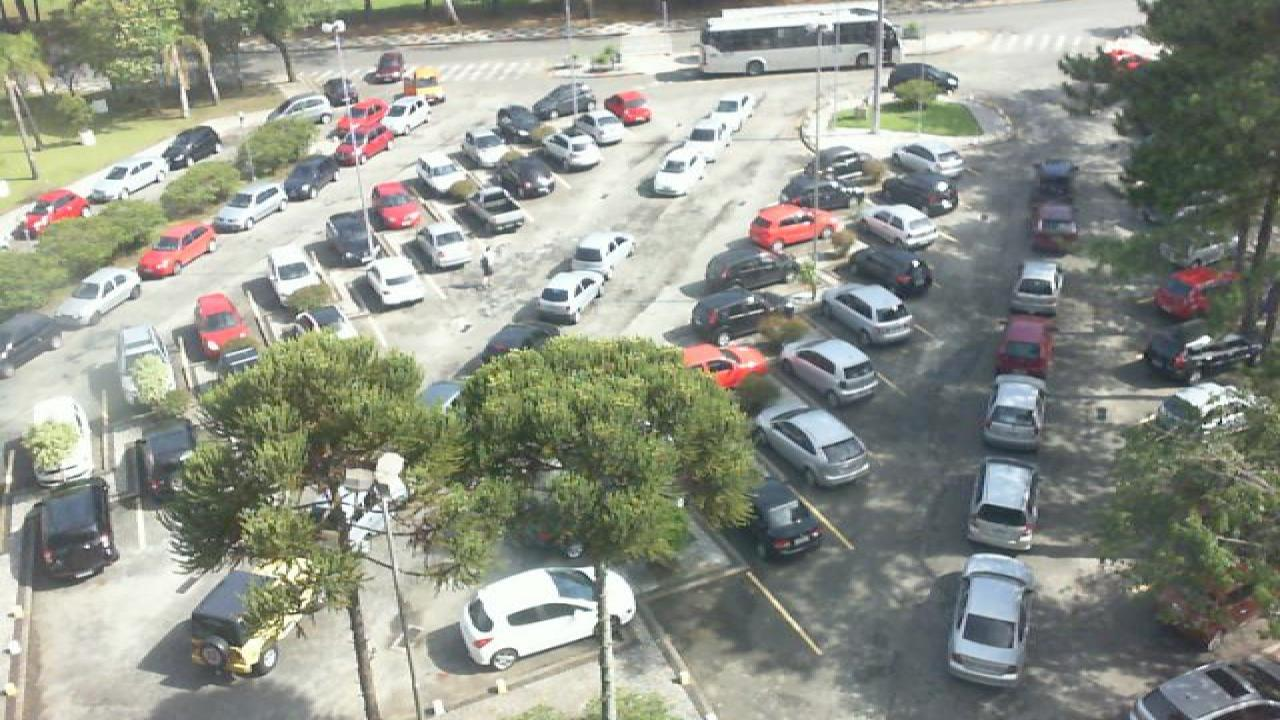Car: (456, 565, 640, 675), (938, 552, 1040, 688), (746, 400, 874, 488), (20, 481, 122, 588), (1136, 320, 1264, 384), (960, 456, 1040, 554), (734, 478, 824, 563), (20, 395, 94, 492), (782, 339, 884, 407), (818, 284, 918, 348), (978, 372, 1046, 454), (58, 264, 144, 328), (672, 340, 770, 396), (1148, 264, 1238, 324), (842, 244, 934, 302), (686, 290, 776, 349), (700, 245, 798, 295), (136, 218, 218, 277), (746, 202, 840, 251), (848, 204, 942, 252), (192, 291, 252, 361), (86, 155, 170, 205), (212, 179, 288, 233), (14, 186, 88, 240), (876, 173, 962, 218), (534, 270, 604, 325), (320, 208, 384, 267), (264, 245, 328, 303), (364, 253, 426, 312), (996, 313, 1052, 378), (458, 186, 528, 234), (412, 151, 482, 199), (790, 173, 868, 216), (118, 322, 176, 379), (568, 229, 638, 276), (1010, 259, 1068, 315), (370, 181, 428, 233), (494, 156, 558, 202), (538, 126, 602, 172), (1030, 198, 1082, 254), (892, 142, 966, 181), (160, 125, 224, 170), (640, 154, 700, 199), (884, 61, 960, 96), (282, 156, 342, 200), (796, 144, 866, 181), (382, 94, 440, 138), (458, 125, 520, 165), (334, 125, 390, 165), (332, 96, 394, 132), (1030, 156, 1078, 202), (264, 90, 330, 123), (496, 103, 554, 140), (530, 83, 592, 117), (668, 123, 722, 162), (698, 92, 750, 132), (602, 88, 654, 127), (366, 52, 404, 84)
